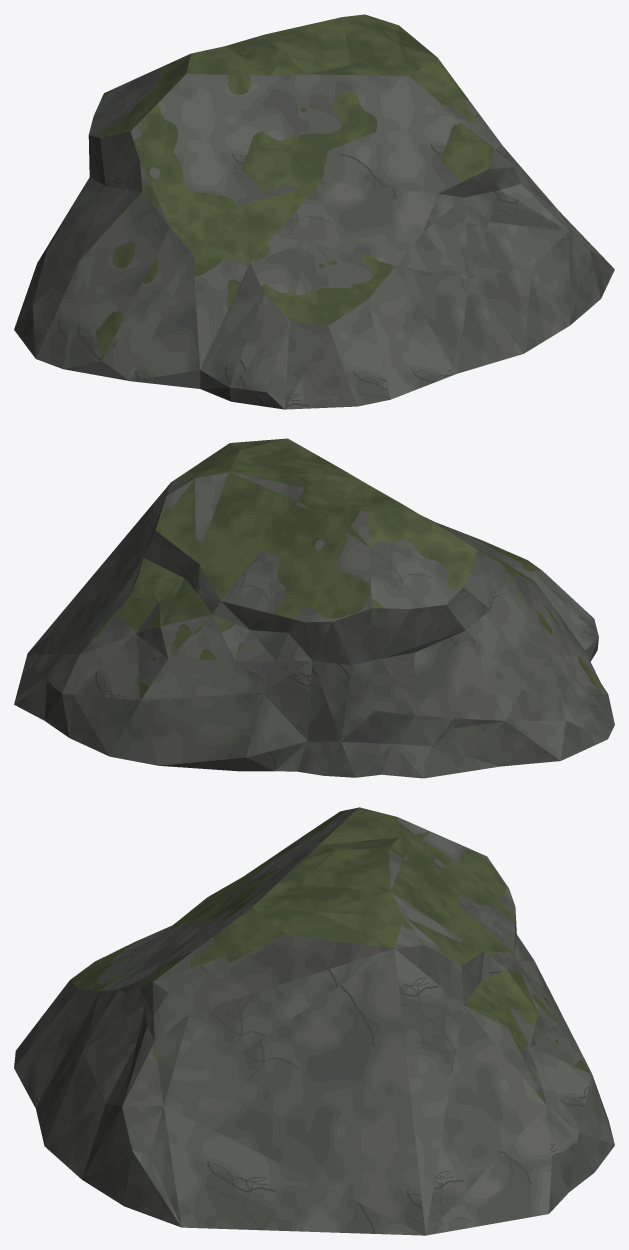
The model's file is redwood_slab3_v1.fbx.
3 renders of one model, top to bottom at view 1: azimuth 30°, elevation 25°; view 2: azimuth 150°, elevation 25°; view 3: azimuth 270°, elevation 25°, orthographic. The views are drawn at different scales.
Visible parts, largest first — view 1: redwood_slab3_v1_s0_lod0, redwood_slab3_v1_s2_lod0, redwood_slab3_v1_s1_lod0, redwood_slab3_v1_s3_lod0; view 2: redwood_slab3_v1_s3_lod0, redwood_slab3_v1_s0_lod0, redwood_slab3_v1_s1_lod0, redwood_slab3_v1_s2_lod0; view 3: redwood_slab3_v1_s1_lod0, redwood_slab3_v1_s2_lod0, redwood_slab3_v1_s3_lod0, redwood_slab3_v1_s0_lod0.
Boxes of the visible parts, box(x1,y1,x2,y2) form: redwood_slab3_v1_s0_lod0: box(14, 34, 327, 408); redwood_slab3_v1_s2_lod0: box(279, 106, 603, 409); redwood_slab3_v1_s1_lod0: box(266, 14, 614, 291); redwood_slab3_v1_s3_lod0: box(92, 68, 158, 120); redwood_slab3_v1_s3_lod0: box(62, 501, 471, 778); redwood_slab3_v1_s0_lod0: box(298, 471, 614, 770); redwood_slab3_v1_s1_lod0: box(14, 438, 344, 732); redwood_slab3_v1_s2_lod0: box(423, 516, 545, 573); redwood_slab3_v1_s1_lod0: box(137, 849, 587, 1235); redwood_slab3_v1_s2_lod0: box(14, 909, 230, 1210); redwood_slab3_v1_s3_lod0: box(403, 831, 614, 1177); redwood_slab3_v1_s0_lod0: box(97, 807, 430, 960).
Size of what is drawn, in the model's own units: 627 by 250 by 555.
